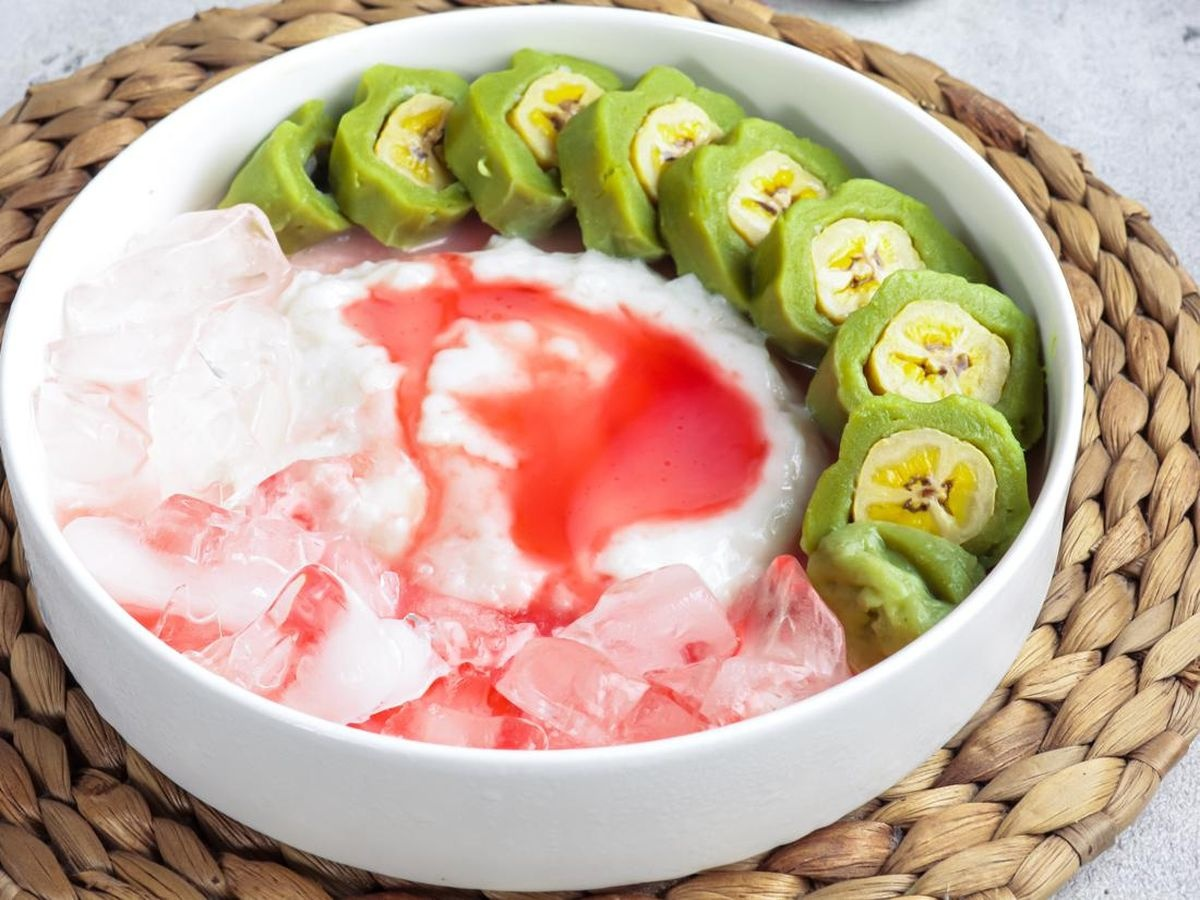pisang_ijo: (821, 339, 1032, 550)
